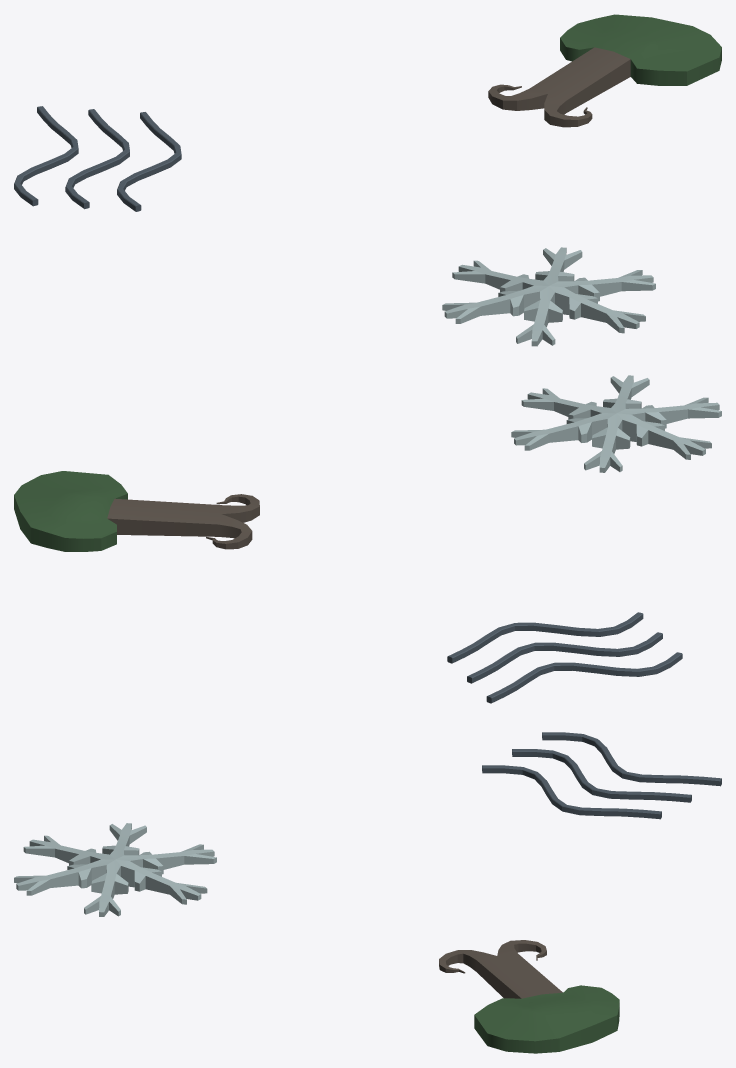
File: floorSymbols.fbx
3 renders of one model, top to bottom at view 1: azimuth 30°, elevation 25°; view 2: azimuth 150°, elevation 25°; view 3: azimuth 270°, elevation 25°, orthographic. The views are drawn at different scales.
Visible parts, largest first — view 1: floorTree, floorSnowflake, floorWaves; view 2: floorTree, floorSnowflake, floorWaves; view 3: floorTree, floorSnowflake, floorWaves.
Boxes of the visible parts, <box> form: floorTree: <box>488,14,721,127</box>; floorSnowflake: <box>442,247,655,346</box>; floorWaves: <box>14,106,181,211</box>; floorTree: <box>14,471,259,551</box>; floorSnowflake: <box>511,375,721,472</box>; floorWaves: <box>447,612,682,703</box>; floorTree: <box>439,940,619,1053</box>; floorSnowflake: <box>14,823,216,916</box>; floorWaves: <box>482,732,721,819</box>.
Size of the model in its own units: 375 by 13.16 by 359.
